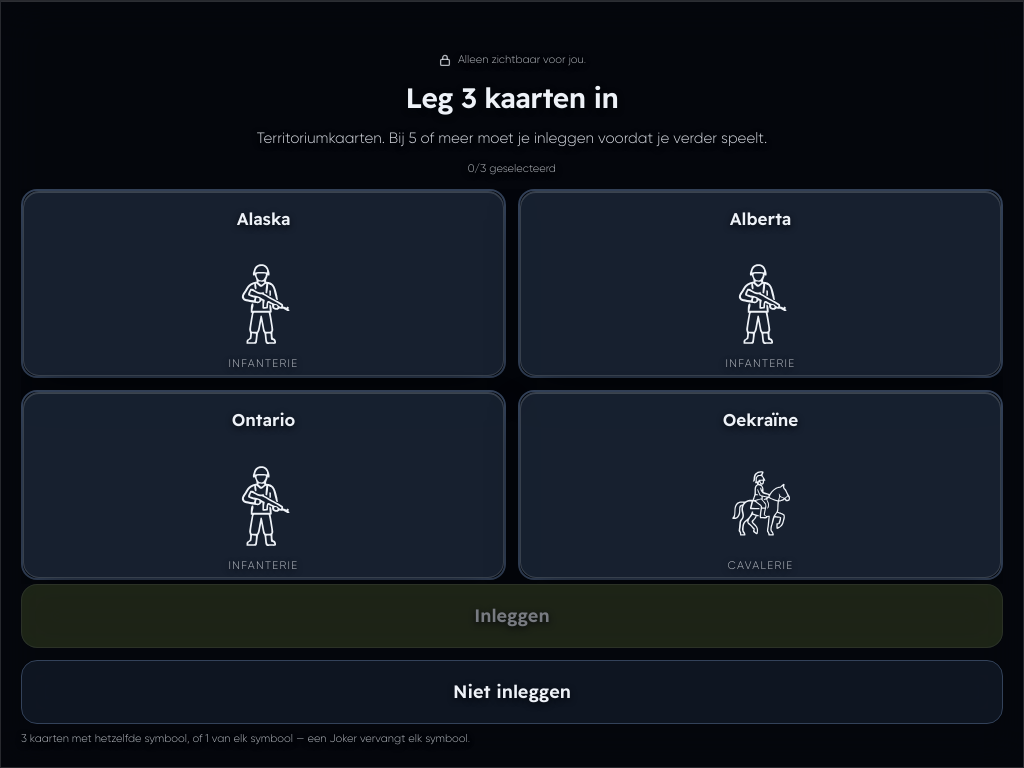
Test case: CardsPanel › staat de bevestigknop pas toe bij precies 3 geselecteerde kaarten
expect the button "Inleggen" is disabled: met, box [21,584,1003,648]
Click the checkbox labelled "Alaska Infanterie": (264, 284) [21,189,506,378]
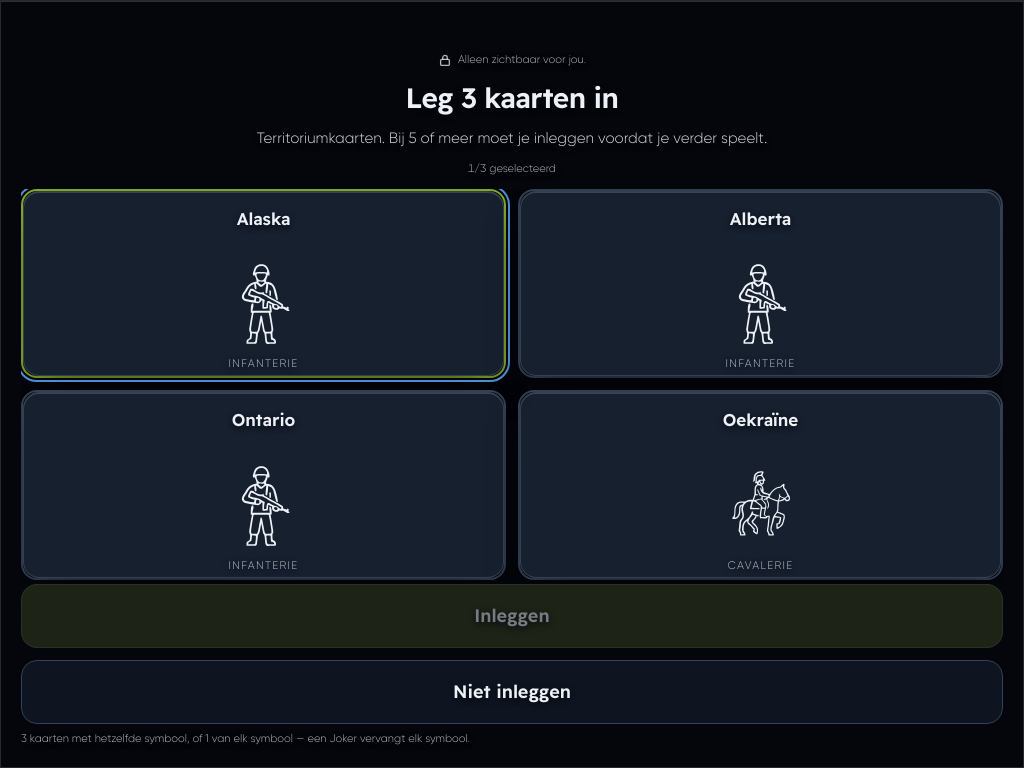
Click the checkbox labelled "Alberta Infanterie": (760, 284) [518,189,1003,378]
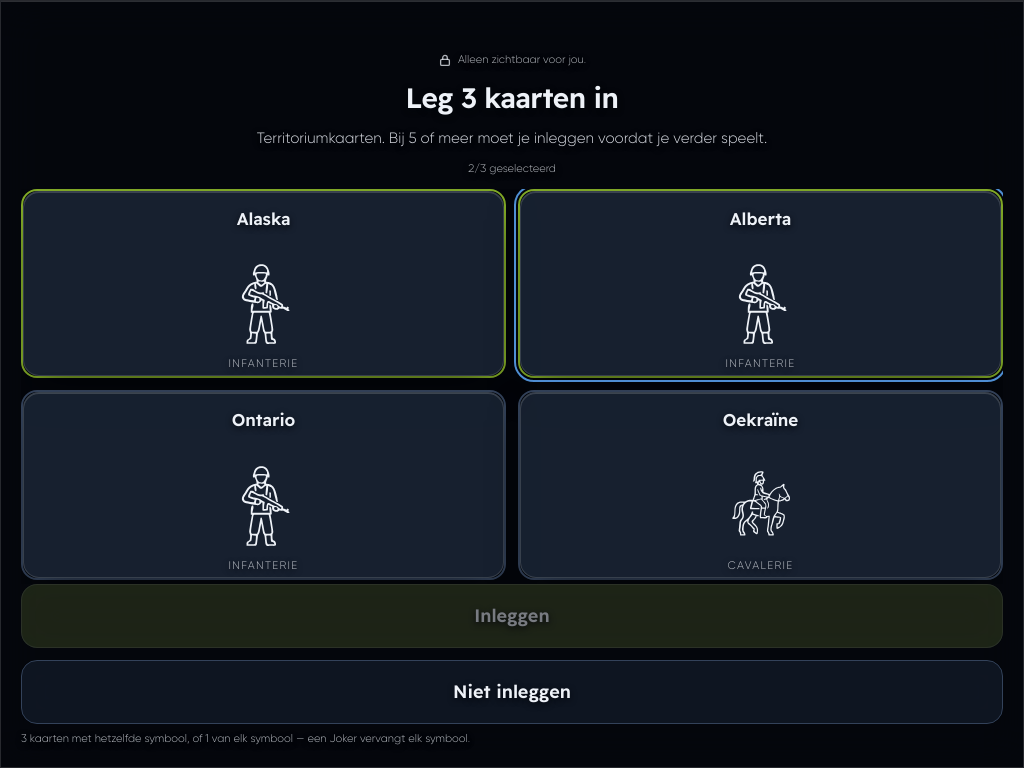
expect the button "Inleggen" is disabled: met, box [21,584,1003,648]
Click the checkbox labelled "Ontario Infanterie": (264, 485) [21,390,506,580]
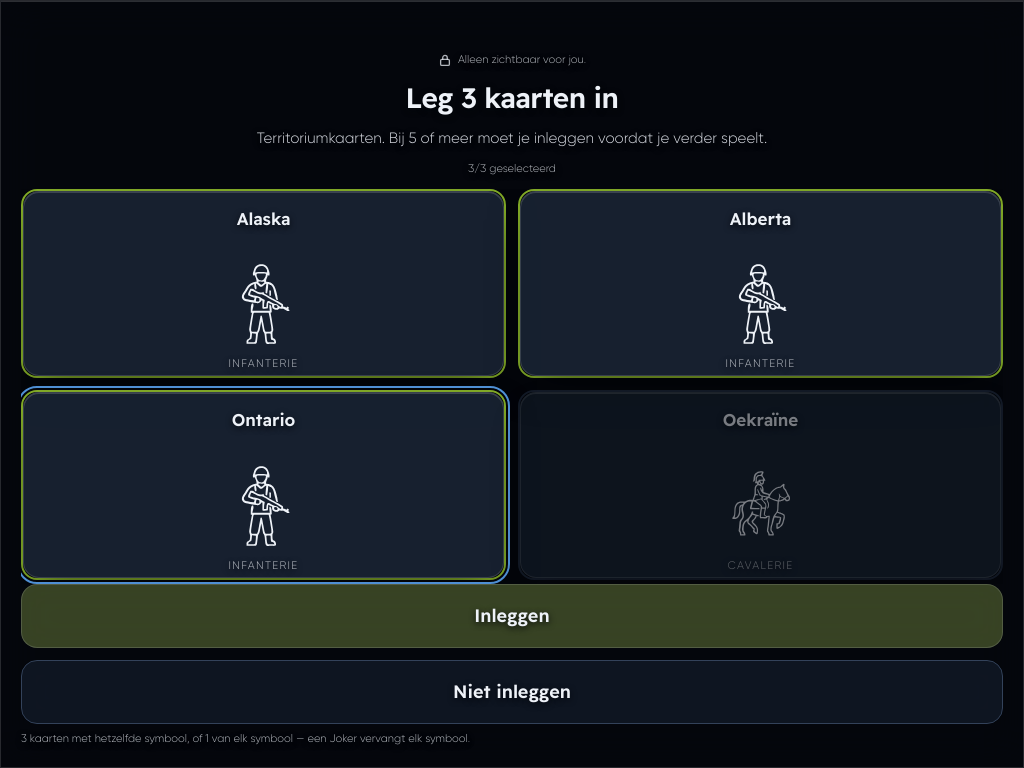
expect the button "Inleggen" is enabled: met, box [21,584,1003,648]
